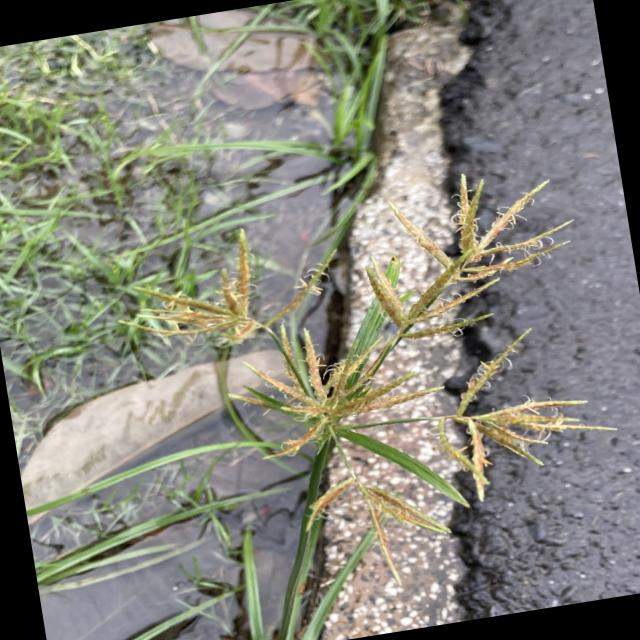cyperus: (88, 151, 640, 632)
